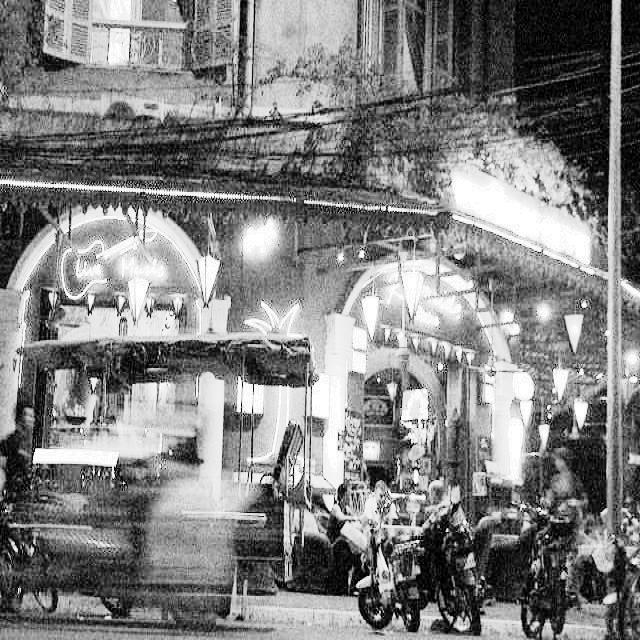Motorcycle: (362, 490, 485, 640), (510, 494, 577, 612)
